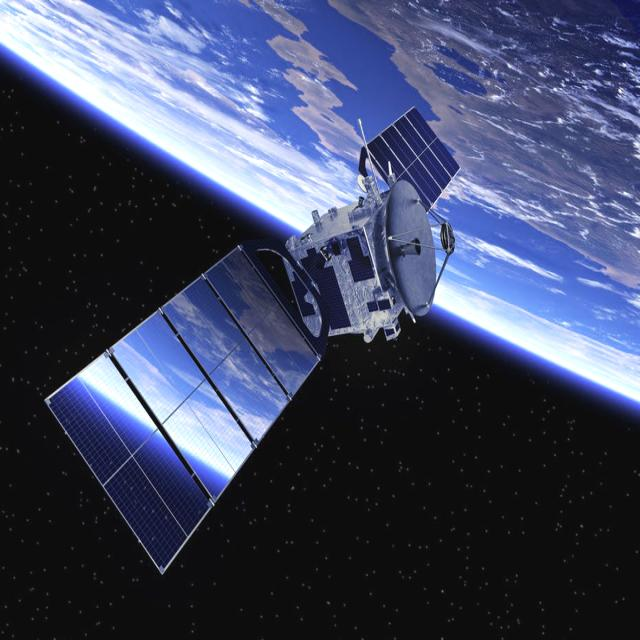medium_debris: (44, 94, 462, 588)
